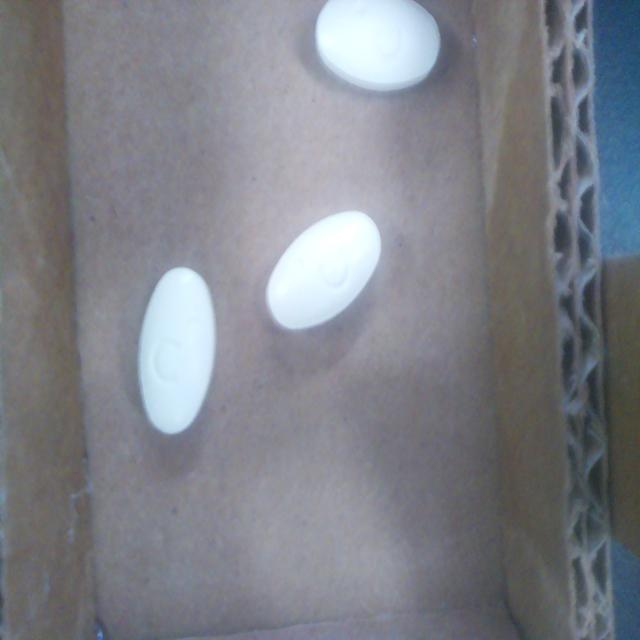pill: (266, 212, 381, 330), (138, 267, 216, 434), (315, 0, 440, 92)
